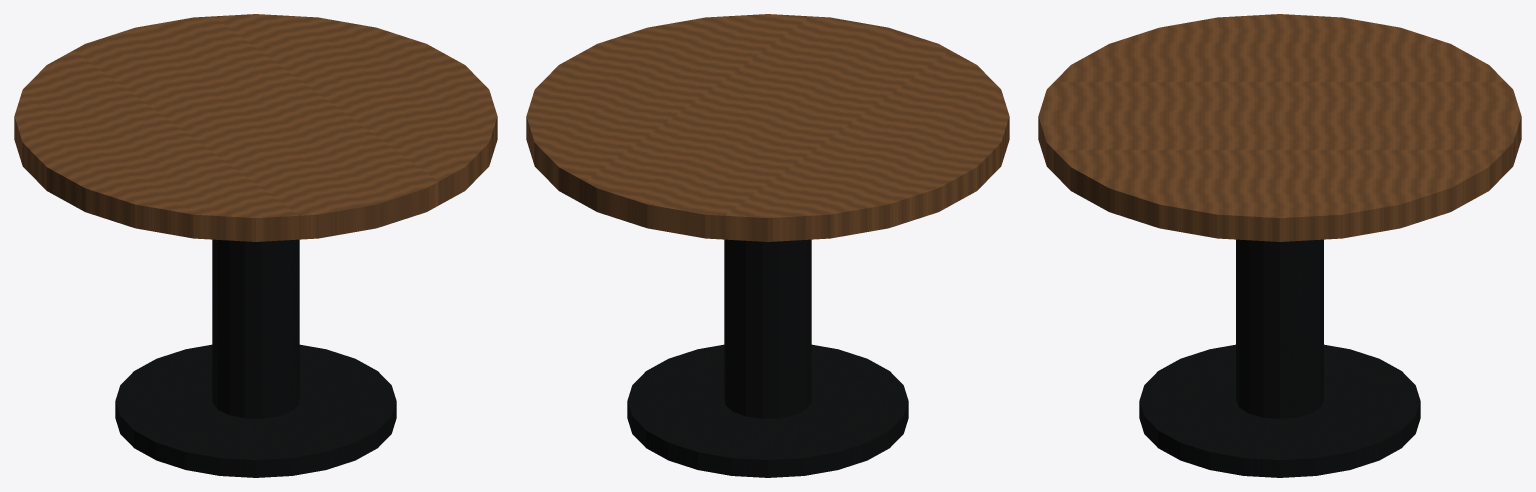
The model's file is table-round_lod2.glb.
The picture shows the model from 3 angles, left to right: view 1: azimuth 30°, elevation 25°; view 2: azimuth 150°, elevation 25°; view 3: azimuth 270°, elevation 25°; orthographic projection.
Parts seen in each view (by area): view 1: top, base, pedestal; view 2: top, base, pedestal; view 3: top, base, pedestal.
Part boxes in pixels (x1,y1,x2,y2): top: (14,14,497,241); base: (115,344,396,477); pedestal: (212,239,299,418); top: (526,14,1009,241); base: (627,344,908,477); pedestal: (724,239,811,418); top: (1038,14,1521,241); base: (1139,344,1420,477); pedestal: (1236,239,1323,418).
Size of the model in its own units: 1.1 by 0.76 by 1.1.
Materials: 2 (2 with a texture image).
